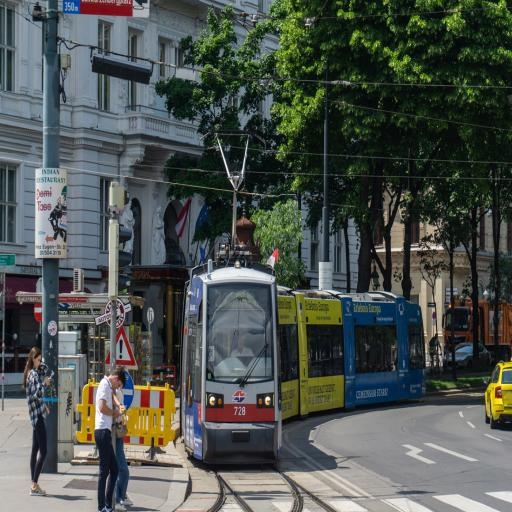ULF: (154, 264, 426, 460)
